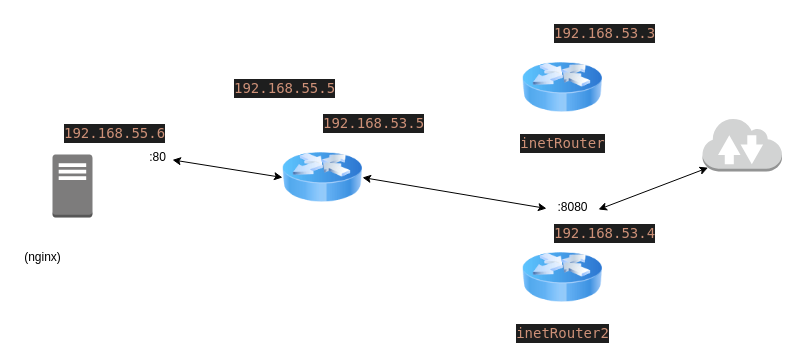
Image size: 799x360. Some labels were removed from this diagram. Each missing label, with the centre of its shape:
"centralRouter" goes at (322,177).
"centralServer" goes at (72,186).
